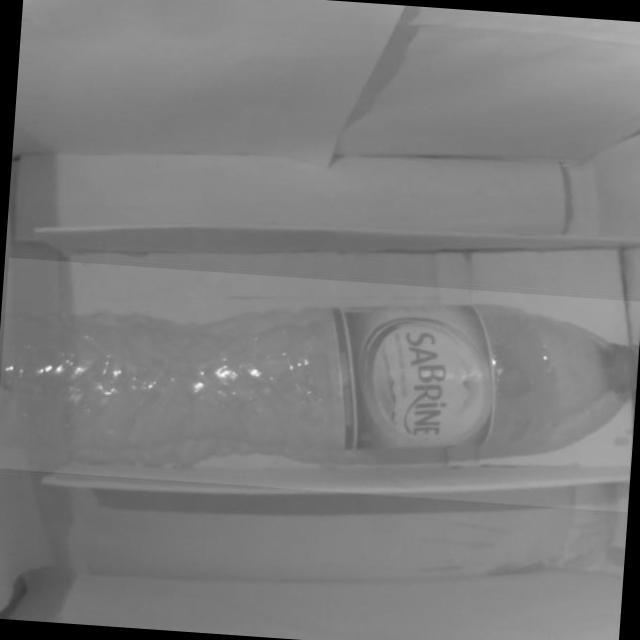good: (0, 257, 640, 512)
